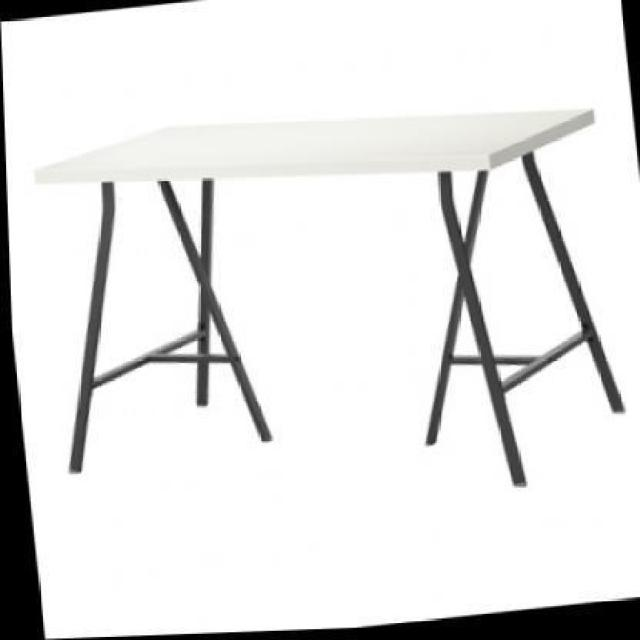tables: (32, 106, 625, 488)
